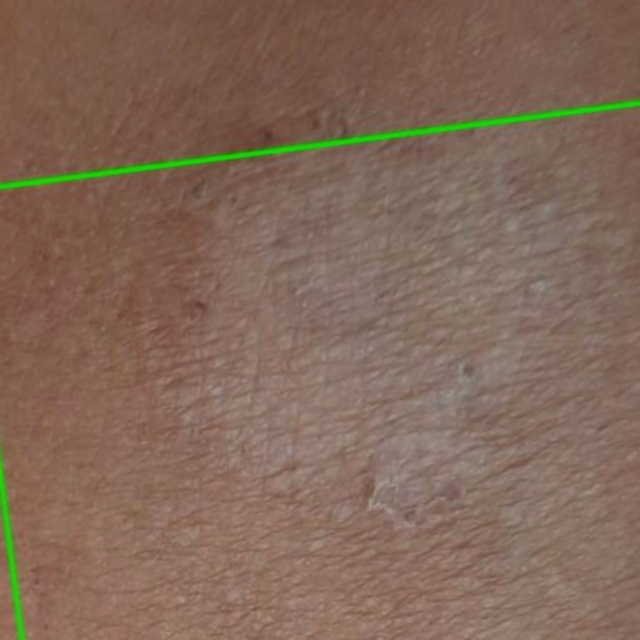Tinea Corporis: (0, 103, 639, 639)
